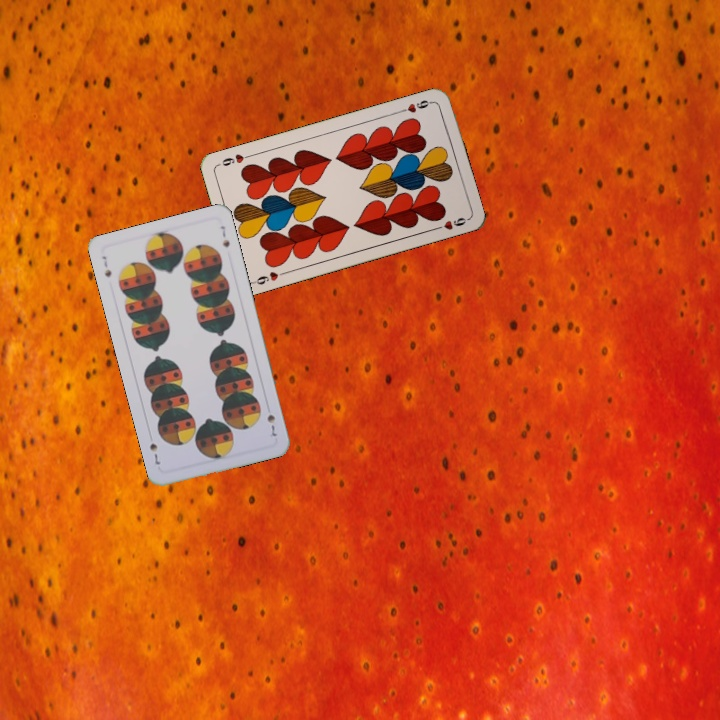H9: (249, 267, 289, 287), (395, 96, 435, 115)
S7: (263, 410, 279, 439), (98, 252, 114, 280)
